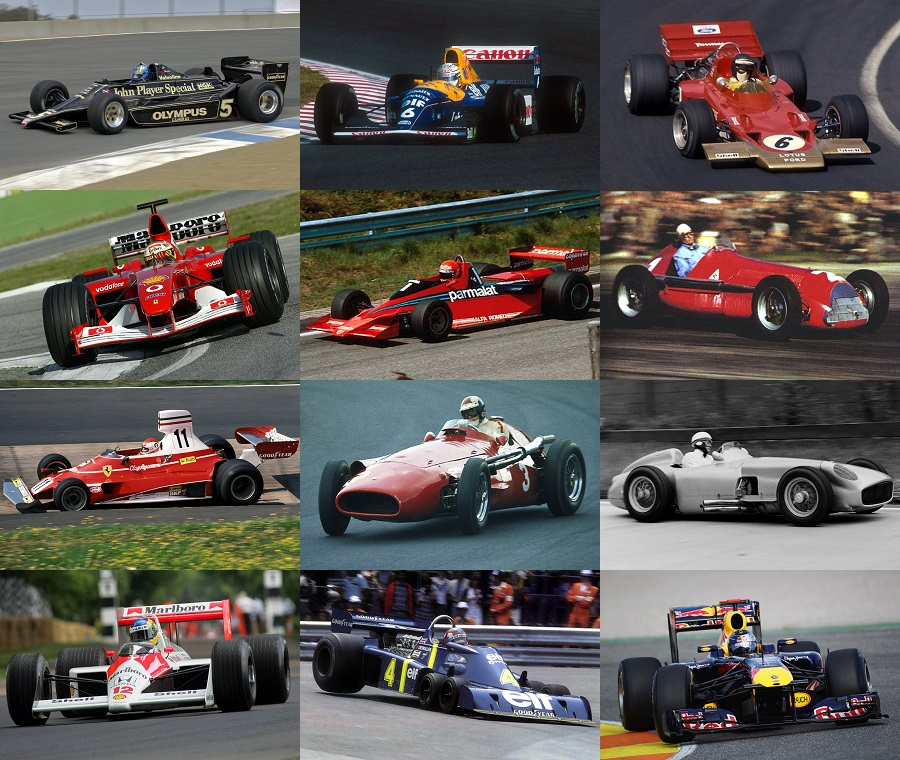f1_car: (33, 193, 294, 368), (312, 388, 591, 547), (611, 592, 893, 748), (619, 14, 885, 177), (2, 591, 297, 736), (306, 599, 600, 741), (607, 216, 895, 351), (304, 233, 594, 359), (3, 405, 301, 527), (602, 422, 897, 543), (311, 34, 594, 154), (2, 49, 297, 135)
helmet: (124, 613, 163, 650), (140, 238, 185, 270), (432, 55, 469, 90), (457, 394, 489, 428), (725, 629, 762, 658), (730, 49, 760, 82), (442, 624, 473, 652), (689, 427, 717, 457), (437, 256, 462, 285), (129, 64, 154, 89), (136, 436, 164, 456)
